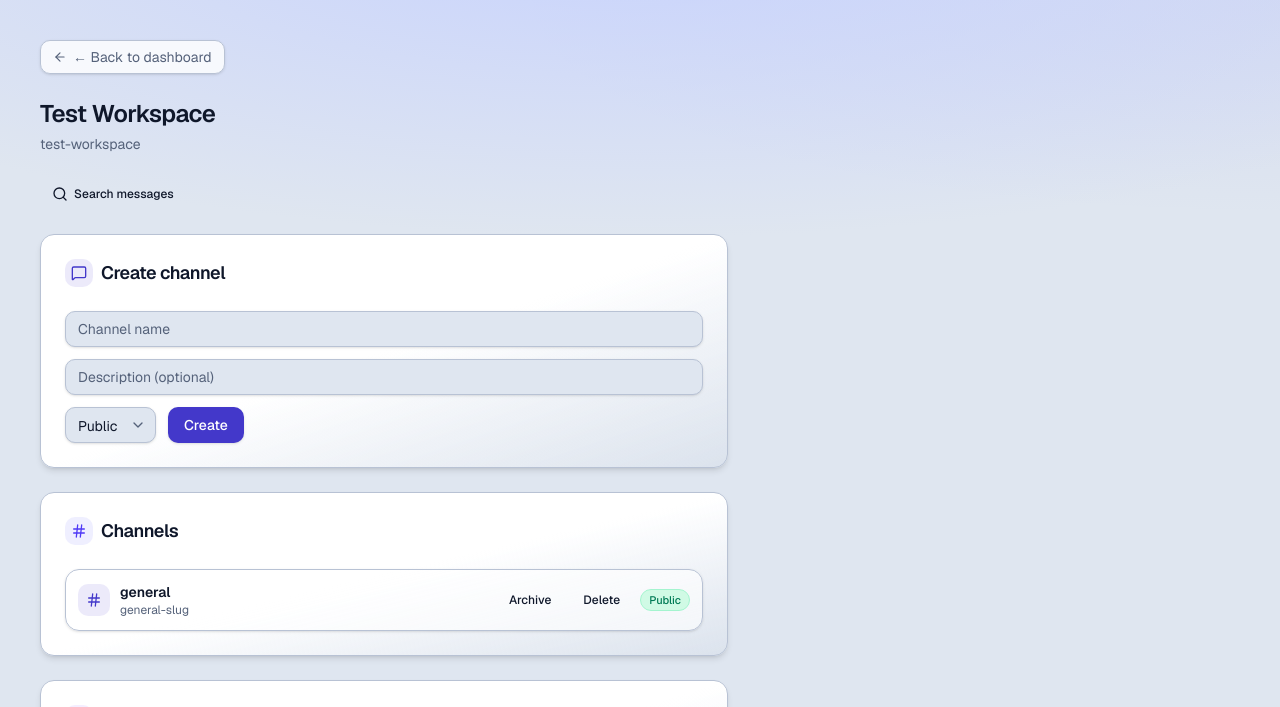
Test: WorkspaceDetailPage — locale › delete failure shows error
The width and height of the screenshot is (1280, 707).
Click the button "Delete" at (602, 600), box [571,584,632,616]
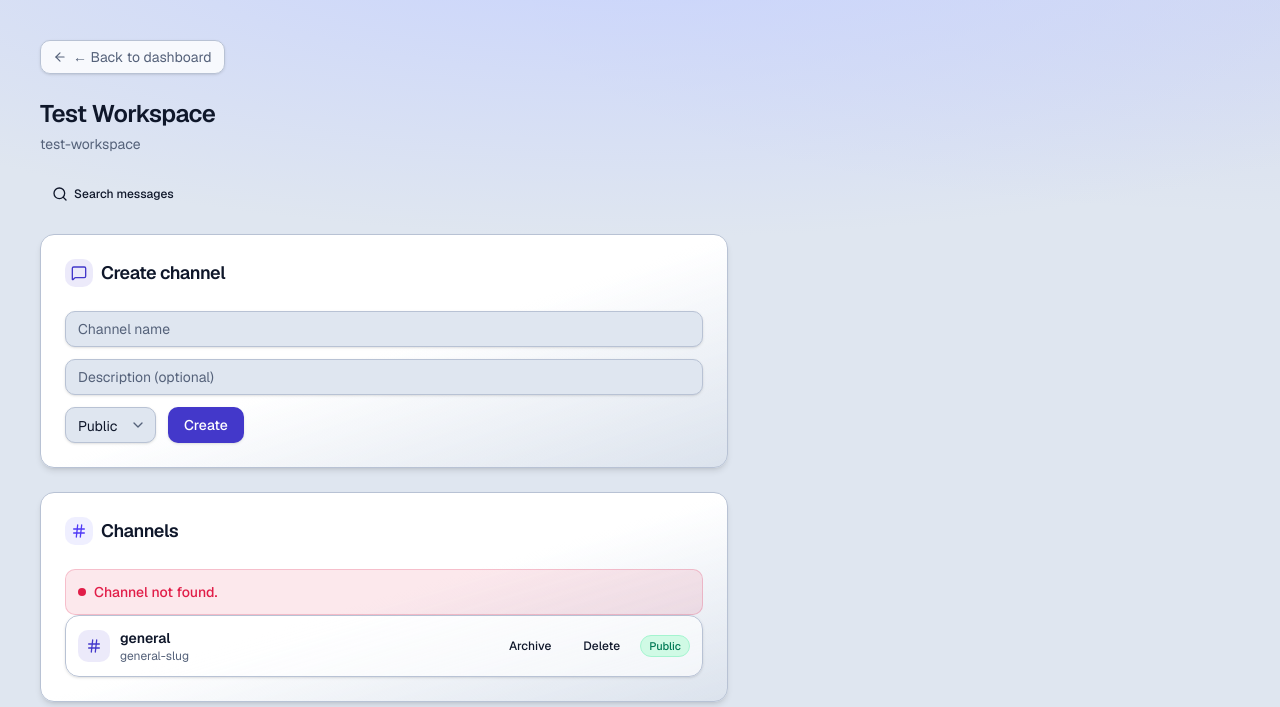
Expected: the text "Channel not found." is shown, [78,583,218,601]
